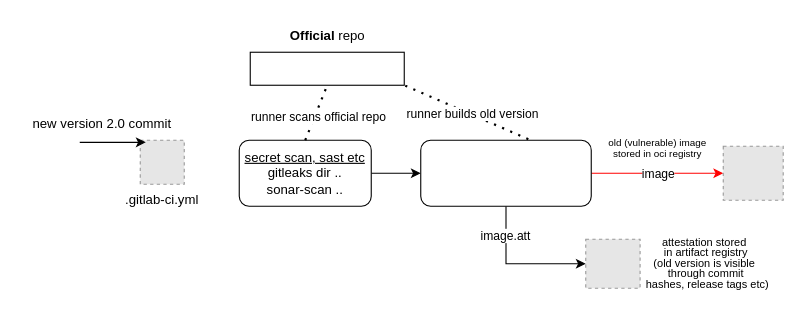
This 802x316 diagram has some shape labels left out. Grey dashed boxes stand in for pictures. The centre of each missing label's shape, as x and y in pixels:
"build_image docker build official:v1.0 docker push official:v1.0" belongs at point 505,172.
"excid-cicd-demo-project" belongs at point 326,68.
